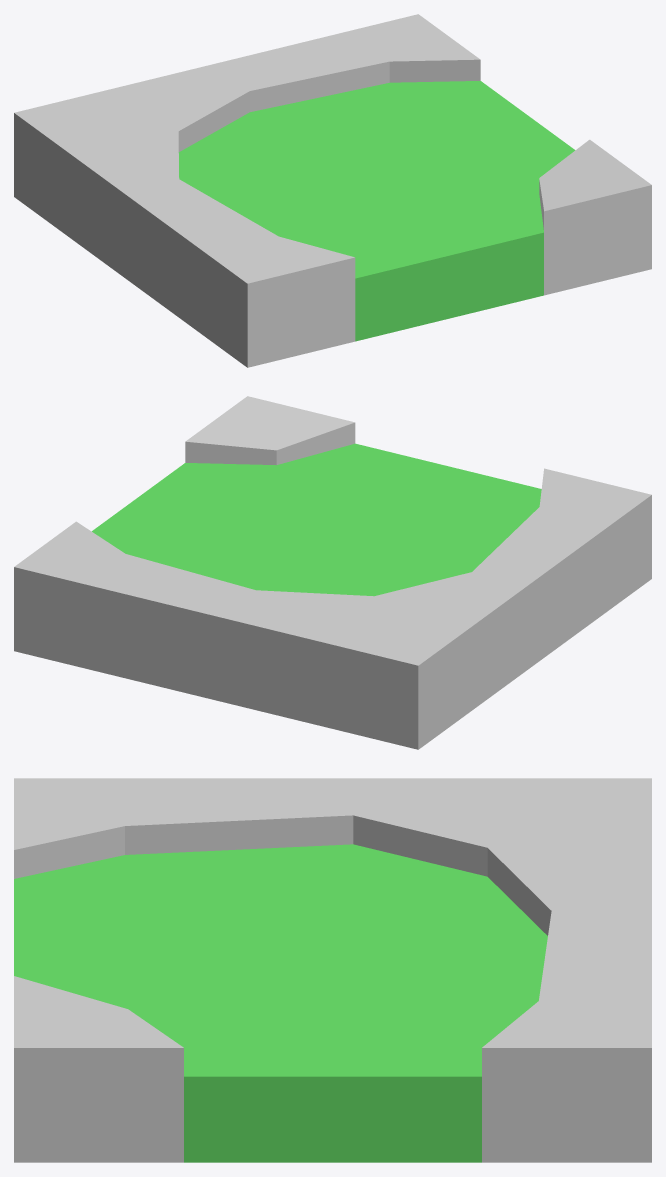
The model's file is RoadGrassCurve.fbx.
3 renders of one model, top to bottom at view 1: azimuth 30°, elevation 25°; view 2: azimuth 150°, elevation 25°; view 3: azimuth 270°, elevation 25°, orthographic. The views are drawn at different scales.
Parts seen in each view (by area): view 1: RoadGrassCurve; view 2: RoadGrassCurve; view 3: RoadGrassCurve.
Boxes of the visible parts, <box> form: RoadGrassCurve: <box>14,14,651,367</box>; RoadGrassCurve: <box>14,396,651,749</box>; RoadGrassCurve: <box>14,778,651,1162</box>.
Bounding box in the file's own units: 200 × 39.76 × 200.
